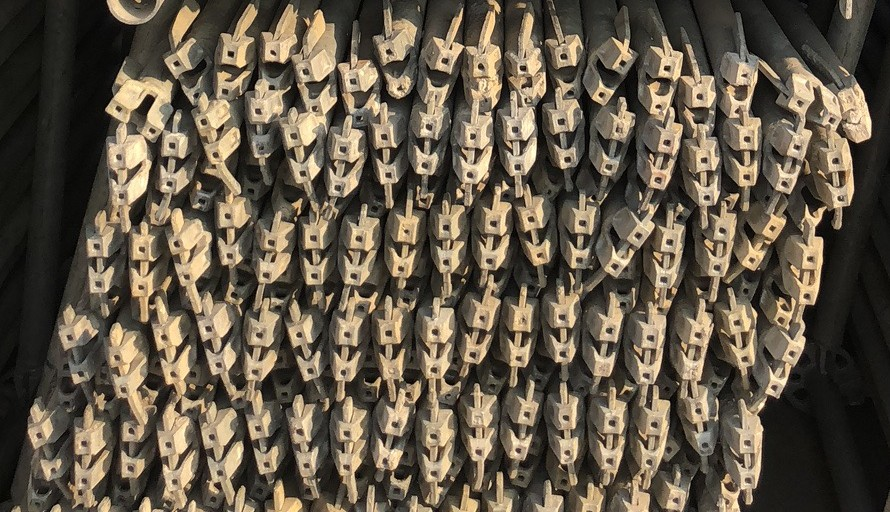THsquare_steel: (775, 78, 844, 129), (580, 40, 633, 103), (101, 90, 166, 139), (372, 33, 419, 97), (206, 32, 251, 98), (289, 55, 337, 115), (332, 63, 382, 120), (419, 38, 459, 108), (162, 47, 211, 103), (546, 36, 587, 99), (641, 51, 680, 117), (254, 37, 296, 94), (675, 76, 717, 133), (505, 49, 550, 101), (719, 54, 756, 117)
THsquare_steel_blocked: (194, 418, 244, 481), (274, 118, 321, 183), (145, 321, 193, 384), (22, 415, 69, 479), (596, 219, 649, 275), (367, 316, 412, 380), (755, 333, 800, 397), (55, 313, 96, 383), (189, 311, 235, 373), (498, 302, 541, 368), (149, 427, 194, 490), (541, 107, 588, 167), (737, 211, 783, 271), (541, 300, 583, 365), (765, 131, 809, 193), (282, 316, 325, 379), (96, 337, 141, 397), (543, 404, 588, 464), (98, 136, 137, 204), (459, 297, 498, 365), (403, 111, 445, 174), (326, 318, 366, 384), (667, 316, 708, 380), (318, 134, 360, 196), (413, 314, 455, 376), (367, 408, 410, 468), (623, 317, 662, 383), (239, 98, 281, 159), (241, 316, 279, 383), (589, 114, 630, 176), (812, 146, 853, 208), (365, 120, 405, 183), (584, 309, 621, 377), (591, 404, 628, 472), (719, 307, 760, 368), (784, 240, 823, 304), (412, 422, 455, 480), (682, 145, 722, 207), (337, 222, 375, 287), (500, 400, 540, 461), (246, 413, 287, 472), (498, 115, 538, 175), (326, 416, 366, 476), (191, 108, 236, 161), (684, 393, 723, 454), (725, 122, 762, 186), (453, 121, 491, 183), (724, 426, 762, 488), (154, 133, 193, 193), (286, 416, 325, 476), (457, 402, 497, 460), (562, 210, 601, 268), (640, 131, 679, 188), (69, 428, 104, 490), (427, 212, 462, 273), (386, 217, 420, 279), (162, 230, 201, 284), (634, 407, 669, 467), (83, 233, 116, 296), (212, 206, 246, 267), (519, 206, 555, 263), (649, 229, 682, 289), (112, 422, 148, 477), (473, 210, 507, 268), (699, 218, 731, 278), (128, 237, 159, 298), (301, 227, 332, 287), (252, 231, 287, 283)
